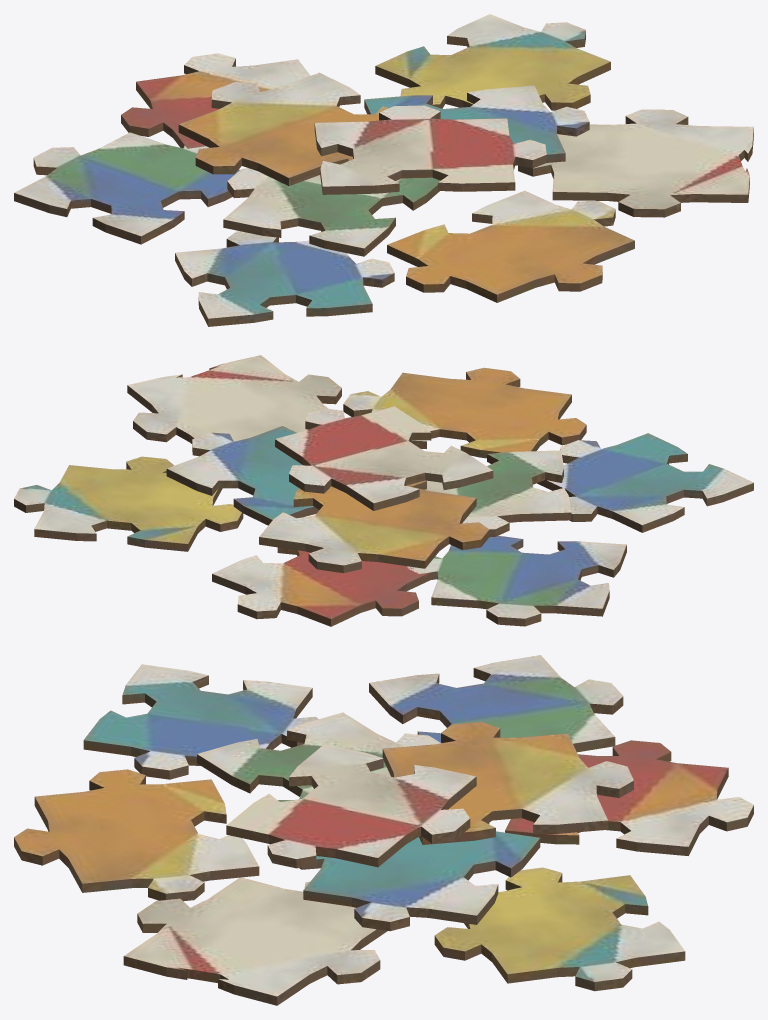
The model's file is T17_jigsaw_pieces_pile.glb.
The picture shows the model from 3 angles, top to bottom: view 1: azimuth 30°, elevation 25°; view 2: azimuth 150°, elevation 25°; view 3: azimuth 270°, elevation 25°; orthographic projection. The views are drawn at different scales.
Visible parts, largest first — view 1: Loose_jigsaw_piece_00; view 2: Loose_jigsaw_piece_00; view 3: Loose_jigsaw_piece_00.
Part boxes in pixels (x1,y1,x2,y2): Loose_jigsaw_piece_00: (14, 14, 753, 326); Loose_jigsaw_piece_00: (14, 355, 753, 626); Loose_jigsaw_piece_00: (14, 655, 753, 1005).
Bounding box in the file's own units: 0.3 × 0.0152 × 0.2747.
Materials: 9 (9 with a texture image).
